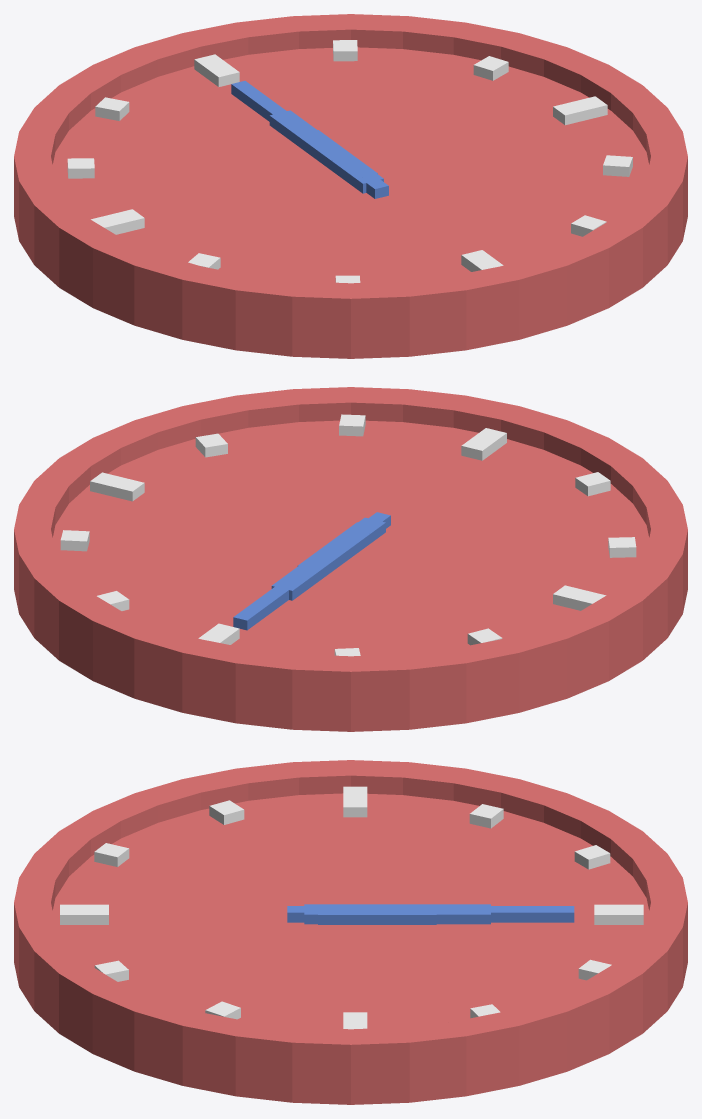
The model's file is clock.glb.
3 renders of one model, top to bottom at view 1: azimuth 30°, elevation 25°; view 2: azimuth 150°, elevation 25°; view 3: azimuth 270°, elevation 25°, orthographic.
Parts seen in each view (by area): view 1: base, minute, second, hour, 3, 12, 9, 2, 11, 6, 4, 10 (+1 smaller); view 2: base, minute, second, hour, 3, 6, 9, 7, 4, 2, 8, 12 (+1 smaller); view 3: base, hour, second, minute, 12, 6, 9, 11, 8, 7, 10.
Part boxes in pixels (box(x1,y1,x2,y2)): base: box(14, 14, 687, 358); minute: box(269, 110, 383, 193); second: box(231, 81, 388, 198); hour: box(298, 130, 377, 178); 3: box(553, 96, 607, 125); 12: box(194, 54, 239, 86); 9: box(91, 209, 144, 234); 2: box(473, 56, 508, 80); 11: box(95, 97, 129, 120); 6: box(461, 250, 503, 271); 4: box(603, 155, 632, 176); 10: box(67, 158, 94, 178); base: box(14, 387, 687, 731); minute: box(271, 517, 385, 600); second: box(233, 512, 390, 630); hour: box(297, 522, 377, 570); 3: box(90, 472, 144, 501); 6: box(461, 428, 506, 460); 9: box(553, 585, 606, 610); 7: box(575, 472, 610, 496); 4: box(195, 433, 227, 457); 2: box(60, 530, 89, 551); 8: box(608, 537, 636, 557); 12: box(198, 623, 239, 644); base: box(14, 760, 687, 1104); hour: box(318, 904, 436, 924); second: box(287, 906, 574, 922); minute: box(304, 904, 490, 924); 12: box(594, 904, 643, 924); 6: box(60, 904, 108, 924); 9: box(343, 786, 367, 817); 11: box(574, 845, 610, 869); 8: box(209, 800, 244, 824); 7: box(94, 843, 129, 866); 10: box(469, 804, 503, 828).
Bounding box in the file's own units: 1.49 × 0.1464 × 1.49.
